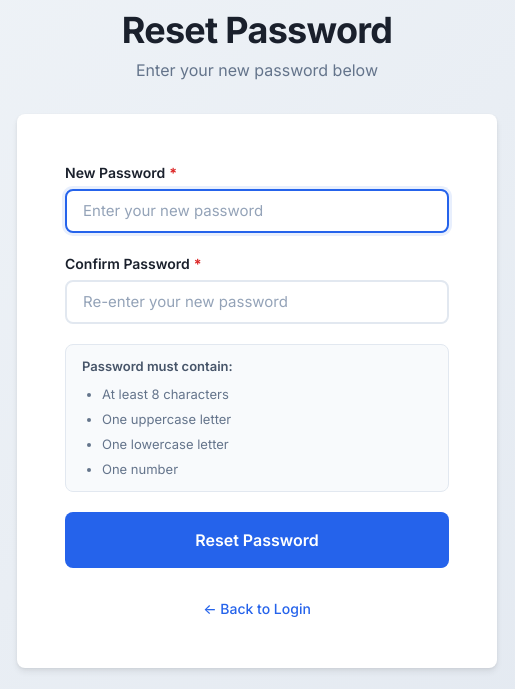
Test: ResetPasswordPage Component › Form Submission › shows success message after successful submission
Type "Password123" into the password field labelled "New Password*" at (257, 211), box [65, 189, 449, 233]
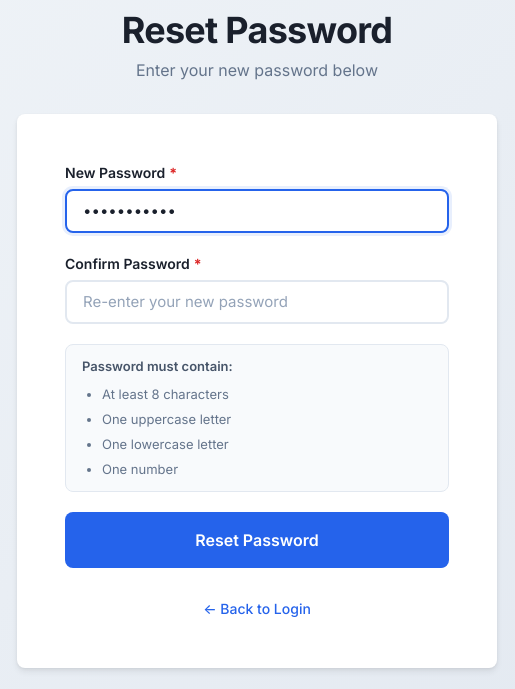
Type "Password123" into the password field labelled "Confirm Password*" at (257, 302), box [65, 280, 449, 324]
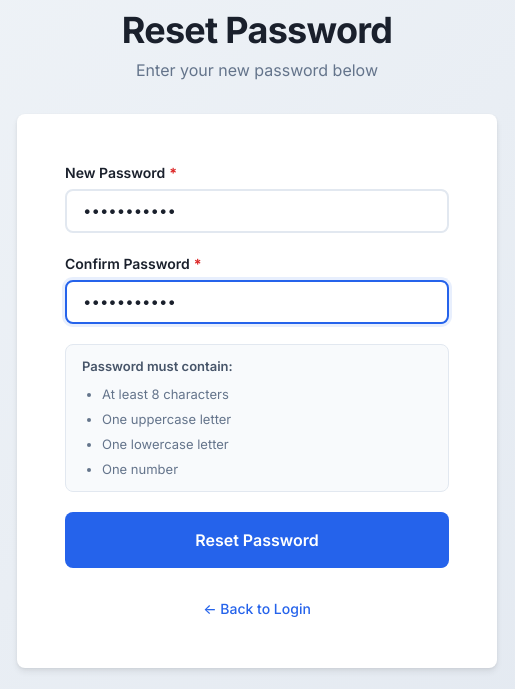
Click the button "Reset Password" at (257, 540), box [65, 512, 449, 568]
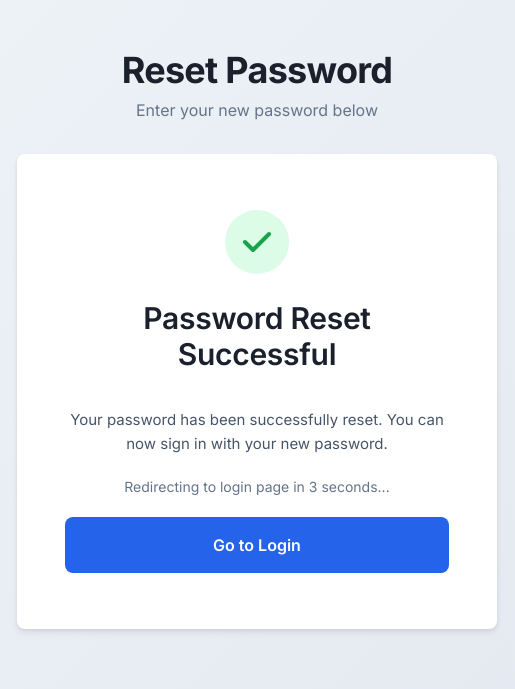
Check: the heading "Password Reset Successful" is shown, box [143, 300, 371, 372]
